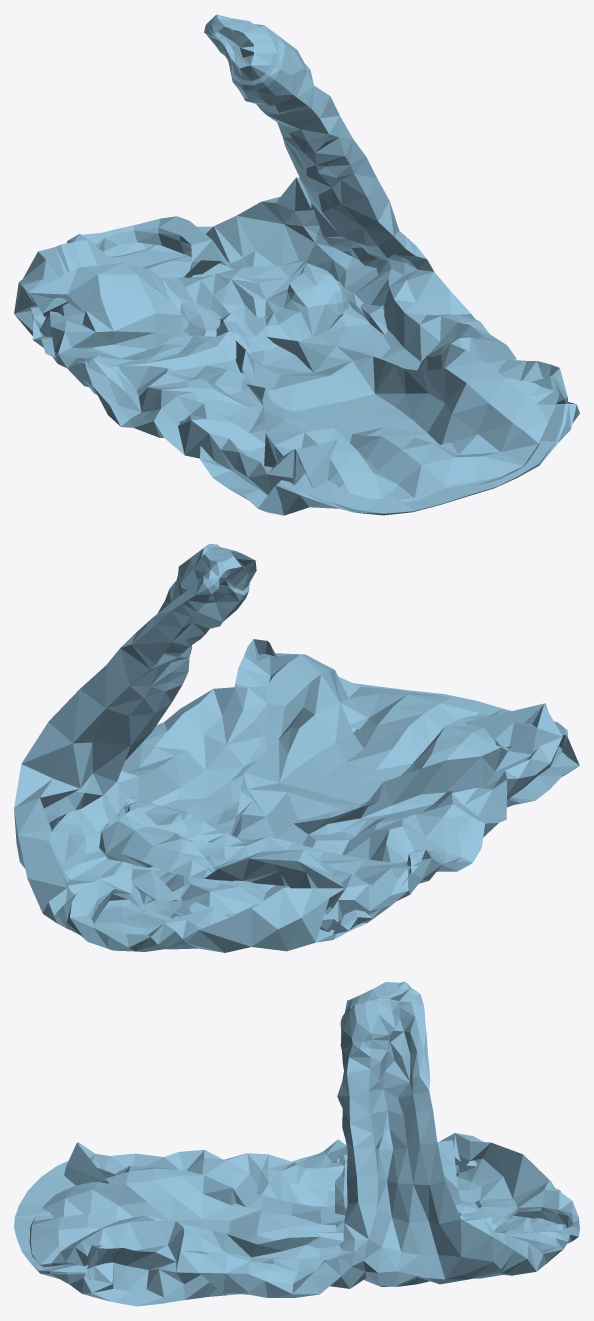
File: frame_15.glb
3 renders of one model, top to bottom at view 1: azimuth 30°, elevation 25°; view 2: azimuth 150°, elevation 25°; view 3: azimuth 270°, elevation 25°, orthographic. The views are drawn at different scales.
Visible parts, largest first — view 1: frame_15.obj; view 2: frame_15.obj; view 3: frame_15.obj.
Part boxes in pixels (left/top/right/bottom): frame_15.obj: left=14, top=14, right=579, bottom=515; frame_15.obj: left=14, top=544, right=579, bottom=952; frame_15.obj: left=14, top=981, right=579, bottom=1306.
Bounding box in the file's own units: 0.9513 × 0.8535 × 1.6.
